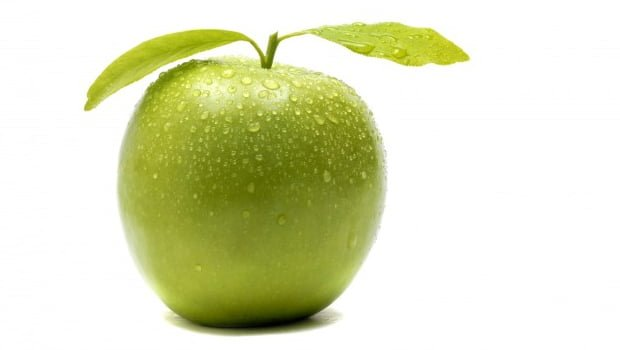apple: (82, 4, 473, 336)
